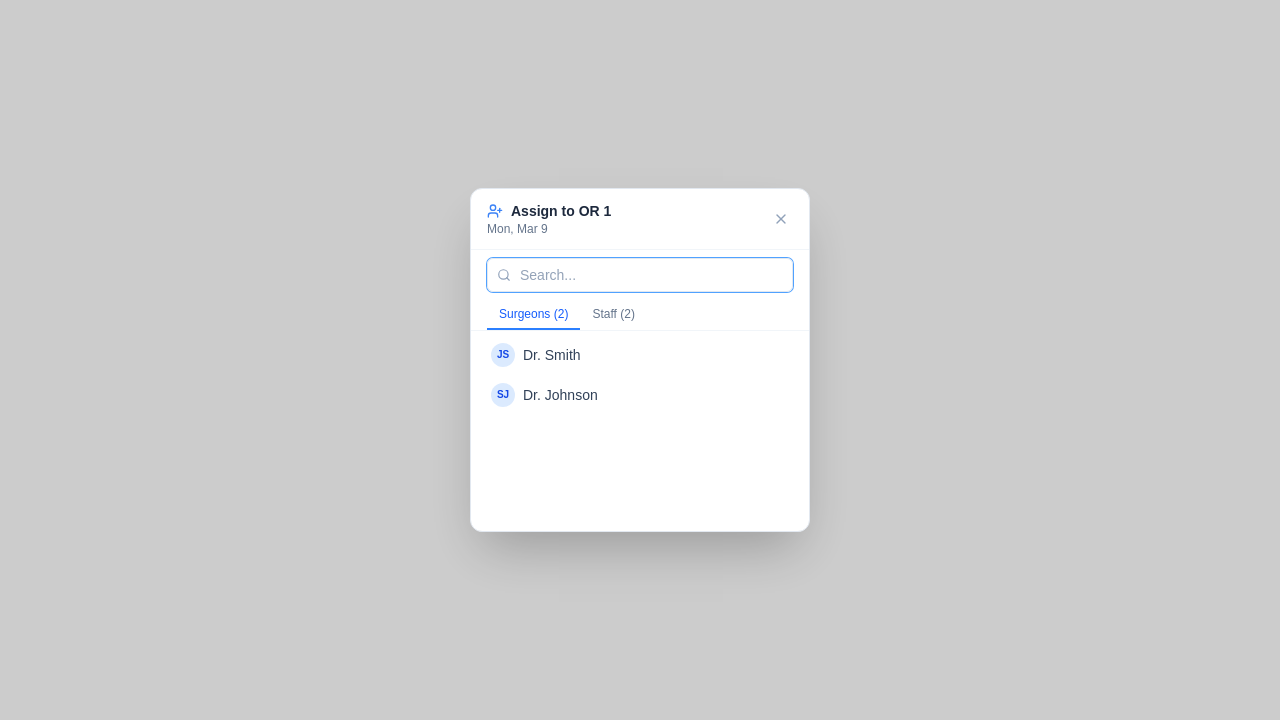
Test: AssignPersonDialog › tab switching › switches to staff tab when clicked
Click the tab "Staff (2)" at (614, 315), box [580,300,647,330]
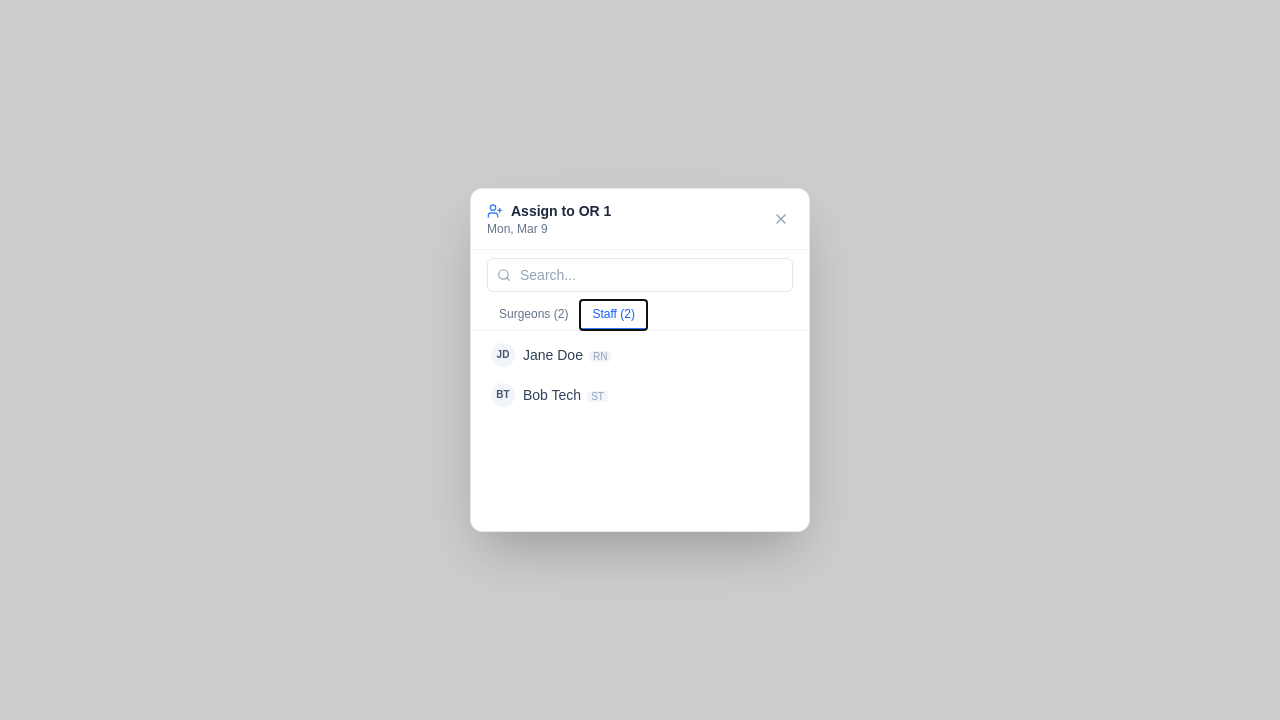
Now the text "Jane Doe" is shown, box [523,347,583,363]
Now the text "Bob Tech" is shown, box [523,387,581,403]
